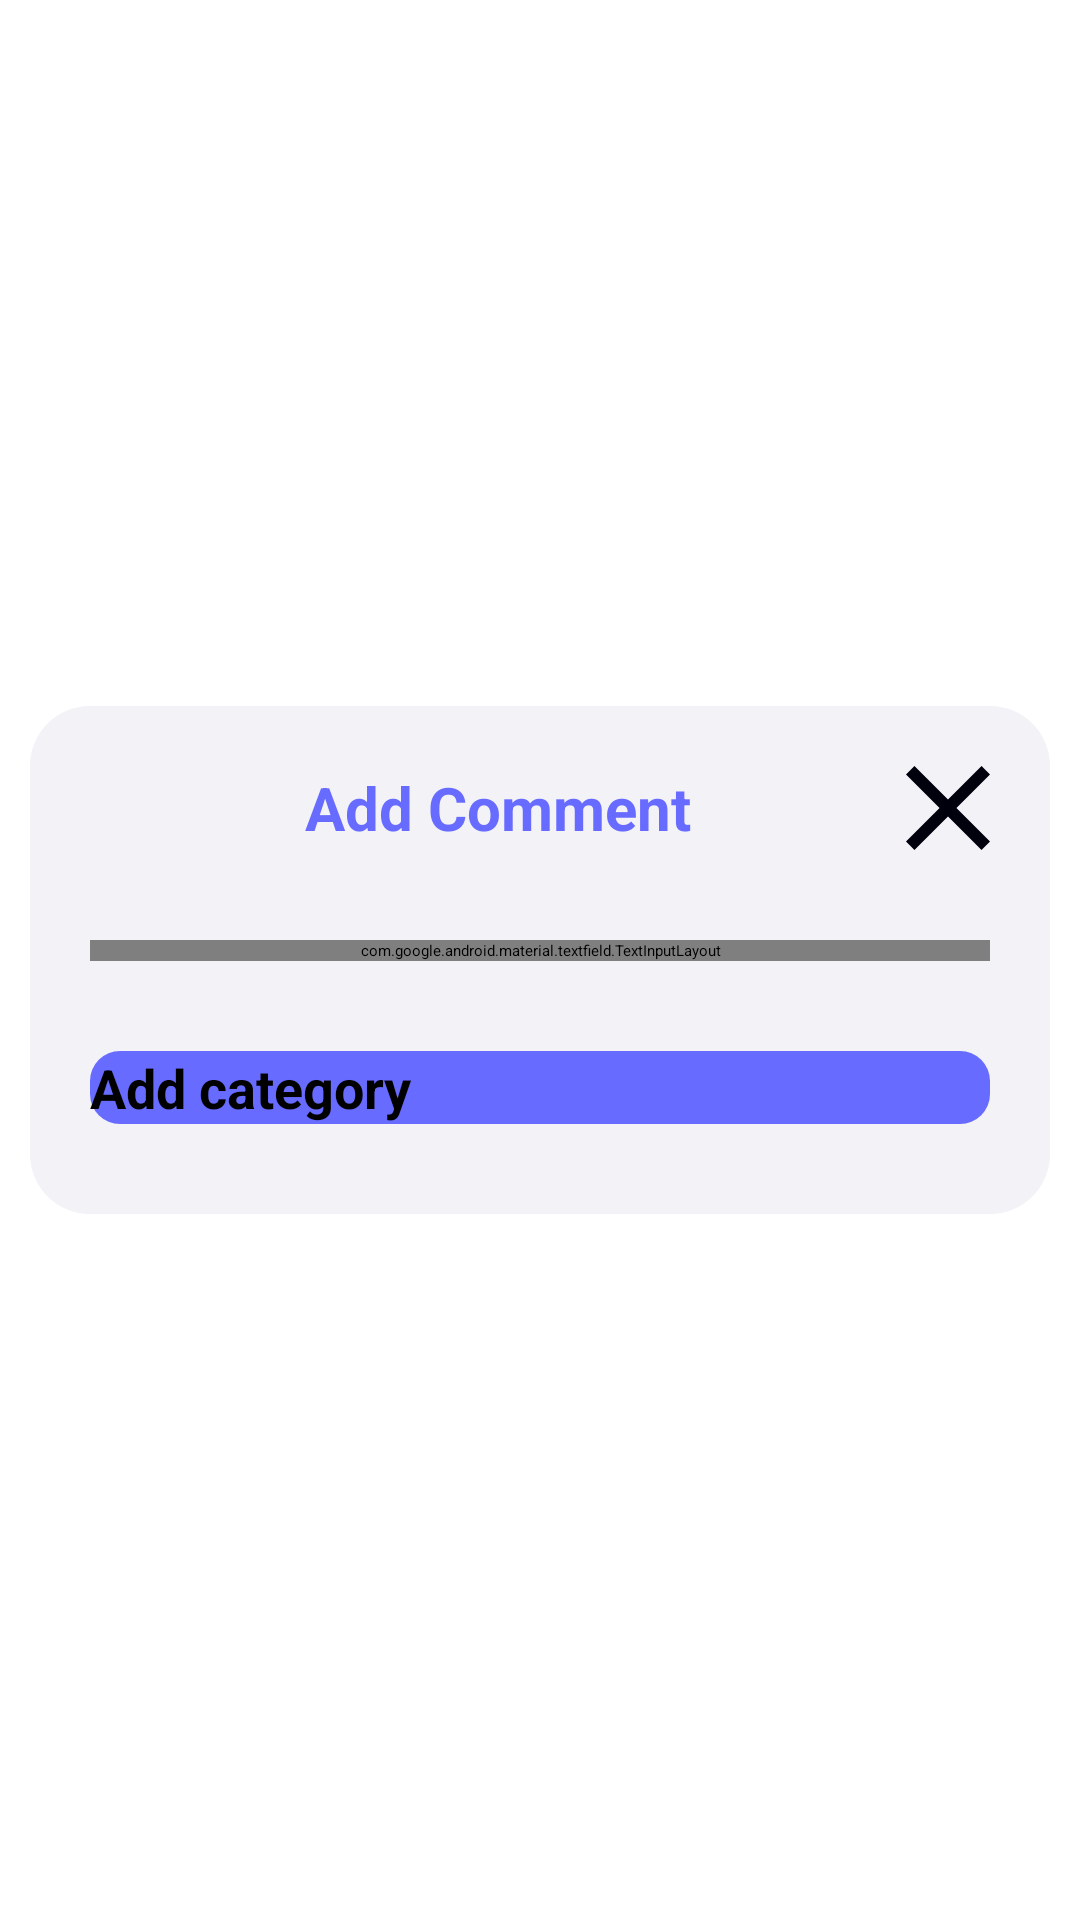

Icons on this 1080px x 1920px Android screen, each with the point to tap as (x,y):
close: (948,808)
